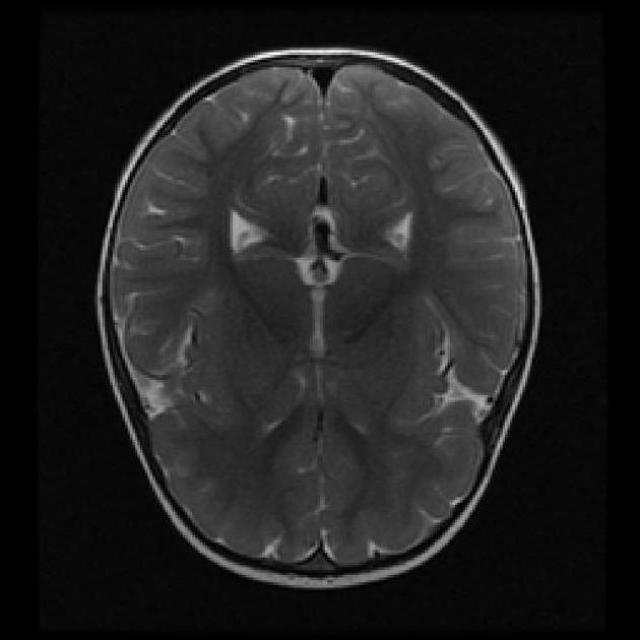notumor: (98, 49, 539, 586)
